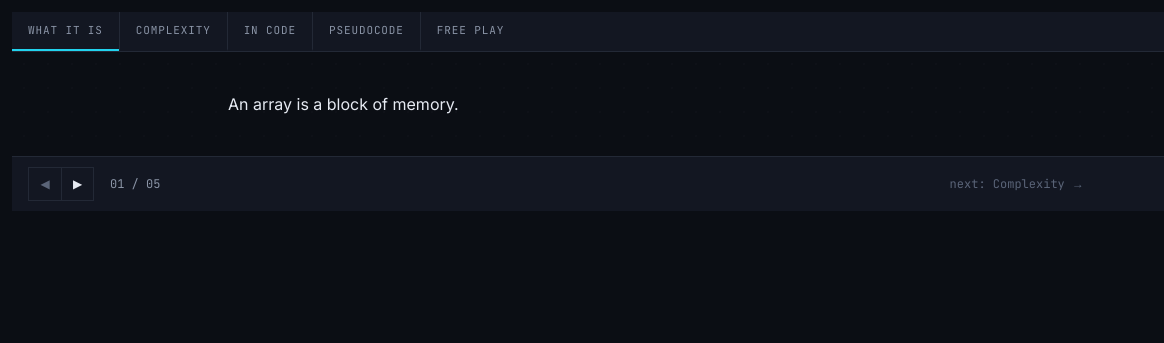
Test case: SlideDeck › steps with the arrow keys once the rail has focus
Click the tab "What it is": (65, 31) x1=12 y1=12 x2=119 y2=50
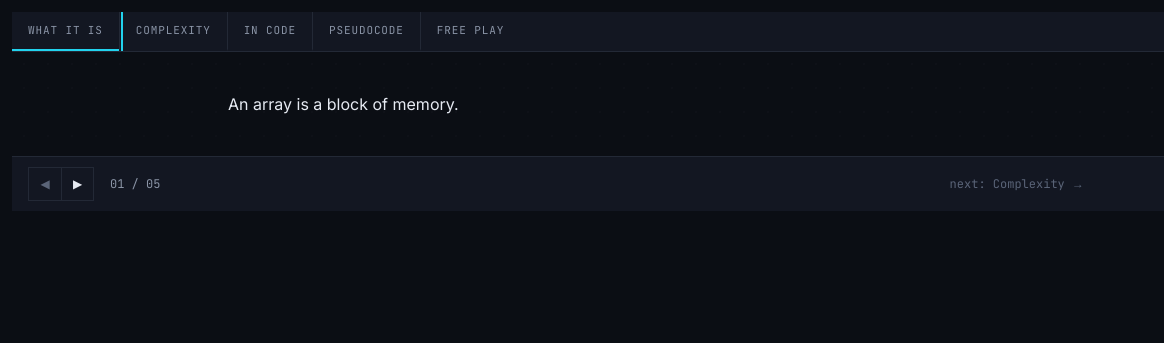
Press Arrowright
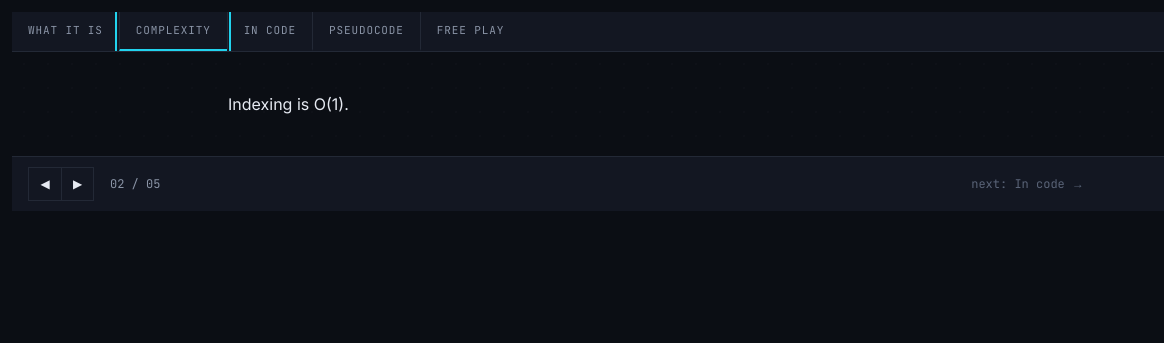
Now the text "Indexing is O(1)." is shown, box x1=228 y1=94 x2=349 y2=114
Press End
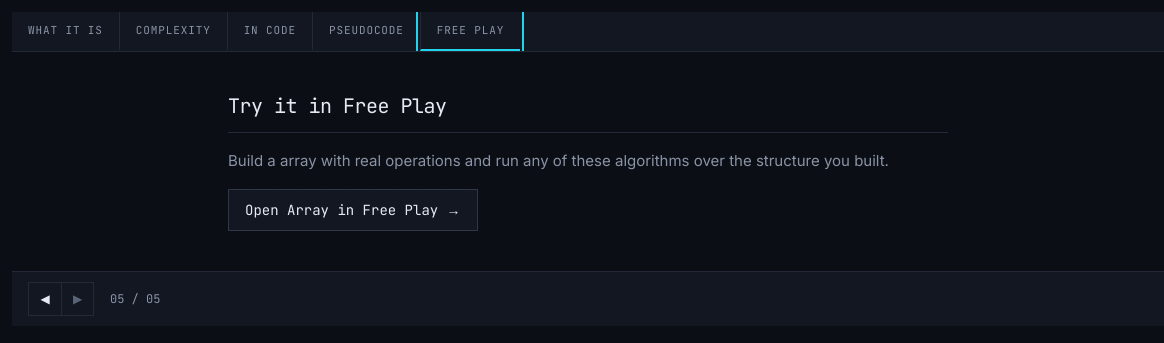
Press Home
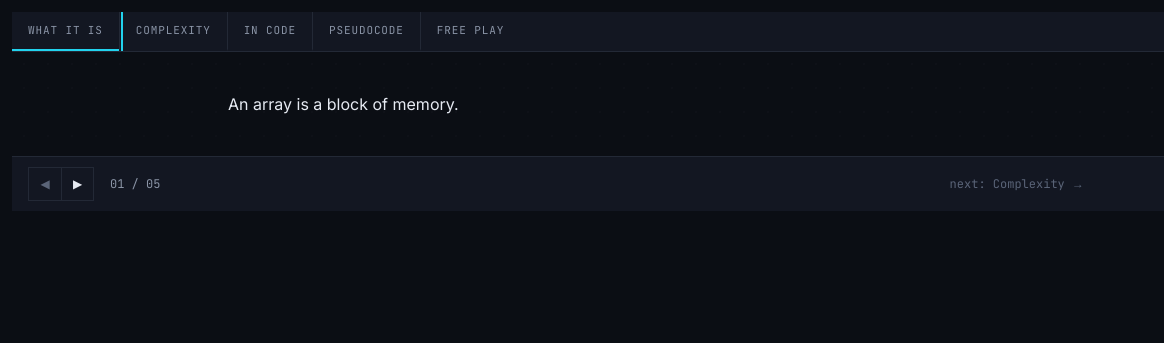
Now the text "An array is a block of memory." is shown, box x1=228 y1=94 x2=459 y2=114
